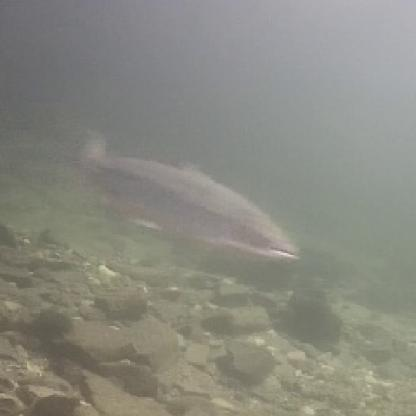salmon: (71, 126, 303, 264)
